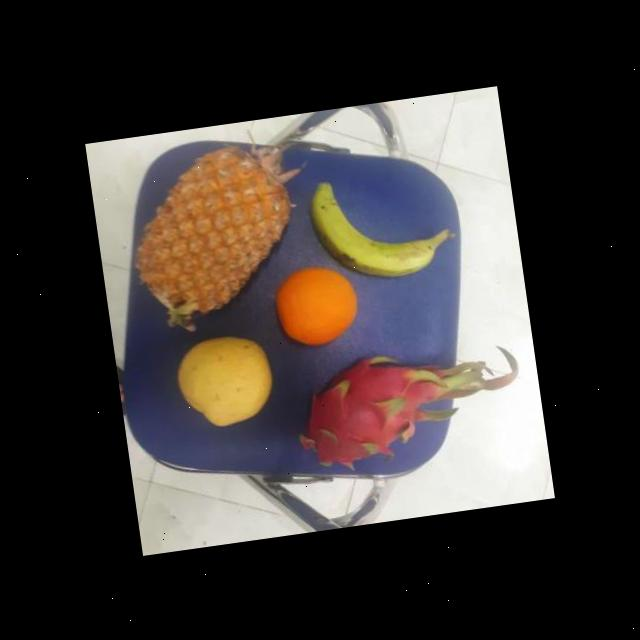banana: (307, 173, 453, 284)
orange: (272, 258, 367, 352)
pear: (172, 326, 276, 432)
pineapple: (120, 132, 302, 320)
pitaya: (292, 341, 460, 482)
